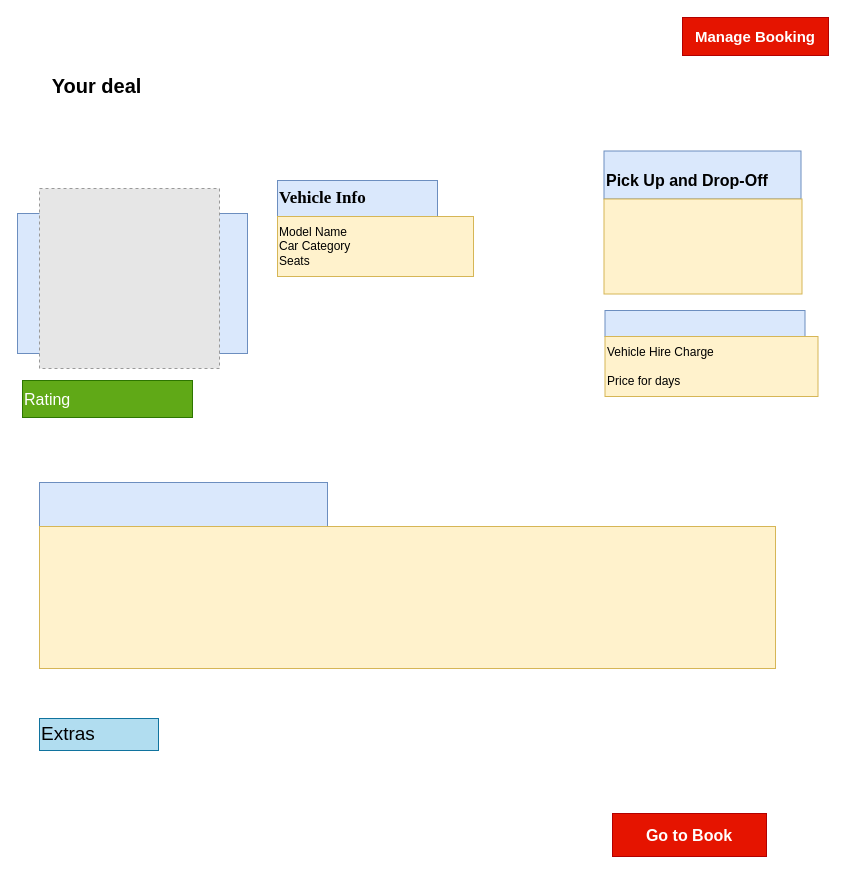
This 846x874 diagram has some shape labels left out. Grey dashed boxes stand in for pictures. The shapes that lost their labels are listed below. From the top down, each one's centre as x and y in pixels, then its label:
At [702,246]: "Pick-Up Time and Date Drop of Time and Date".
At [704,323]: "Vehicle Price Breakdown".
At [183,504]: "Included in the Price".
At [407,597]: "Price break-Up Info /Insurance Coverage".
